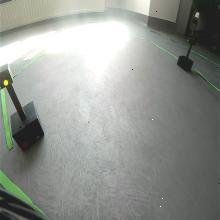green: (0, 62, 14, 90)
